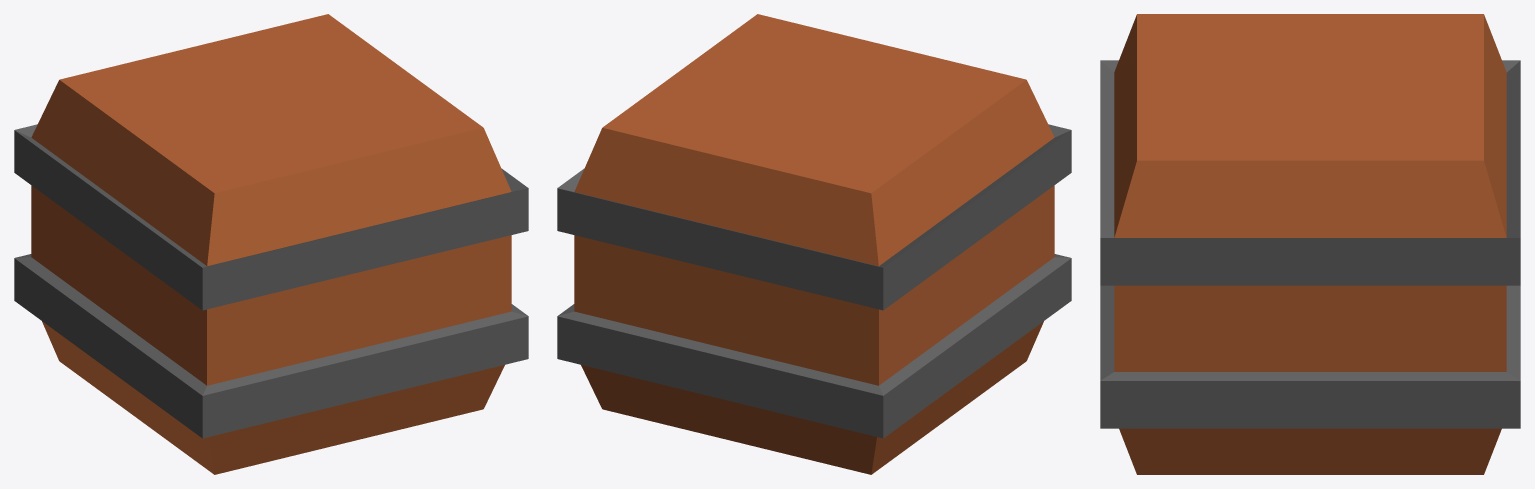
The model's file is barrel.fbx.
3 renders of one model, left to right at view 1: azimuth 30°, elevation 25°; view 2: azimuth 150°, elevation 25°; view 3: azimuth 270°, elevation 25°, orthographic. The views are drawn at different scales.
Visible parts, largest first — view 1: Cube; view 2: Cube; view 3: Cube.
Boxes of the visible parts, <box> form: Cube: <box>14,14,528,474</box>; Cube: <box>557,14,1071,474</box>; Cube: <box>1100,14,1520,474</box>.
Size of the model in its own units: 214 by 177 by 214.
